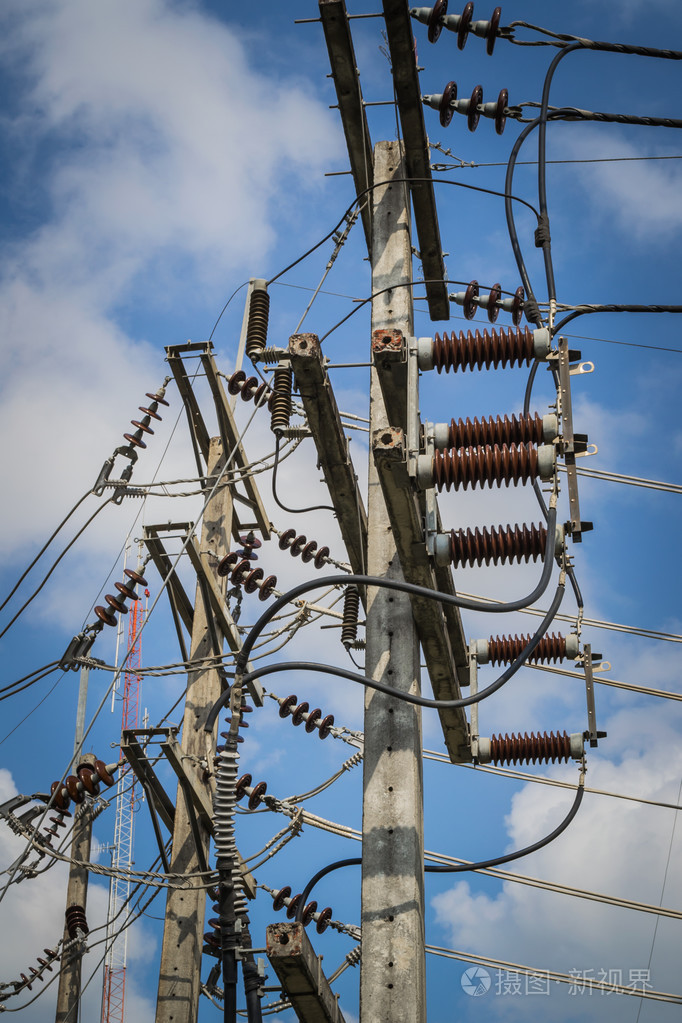insulator: (422, 1, 508, 58), (434, 78, 513, 134), (214, 546, 276, 600), (264, 884, 333, 932), (461, 276, 528, 325), (50, 762, 113, 813), (91, 570, 149, 625), (118, 392, 166, 457), (276, 694, 335, 739), (279, 528, 328, 570), (198, 901, 227, 956), (228, 371, 266, 410), (233, 770, 266, 812), (61, 903, 89, 941)
